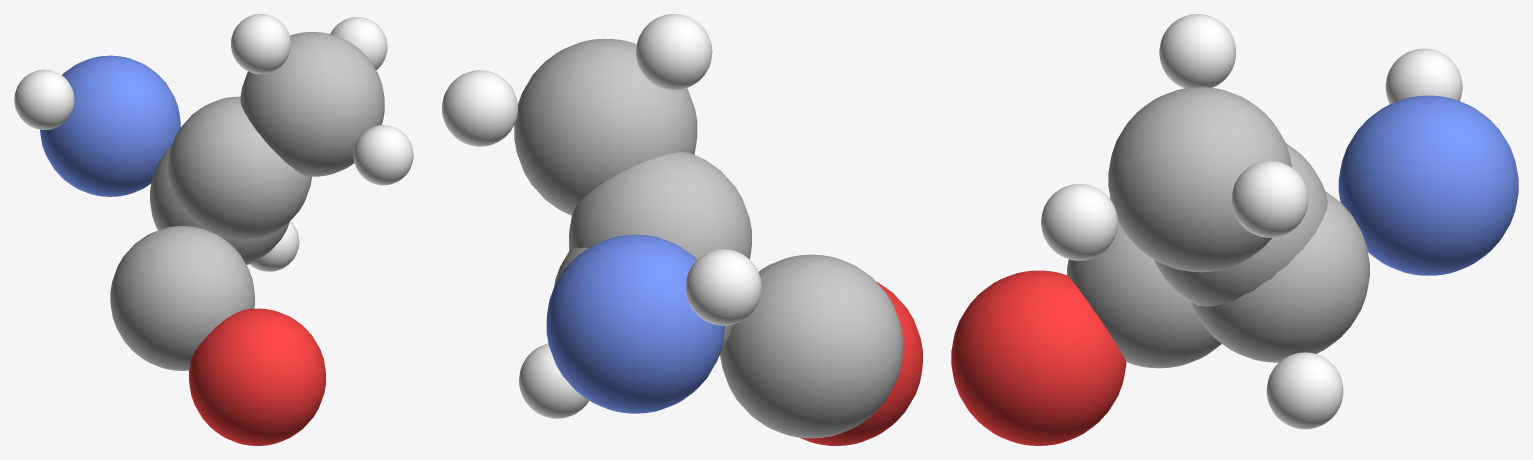
Rendered from Alkaline.glb.
3 renders of one model, left to right at view 1: azimuth 30°, elevation 25°; view 2: azimuth 150°, elevation 25°; view 3: azimuth 270°, elevation 25°, orthographic. The views are drawn at different scales.
Visible parts, largest first — view 1: Carbon_ball (×4), Oxygen_ball (×2), Nitrogen_ball, Hydrogen_ball (×5); view 2: Carbon_ball (×4), Nitrogen_ball, Hydrogen_ball (×4), Oxygen_ball; view 3: Carbon_ball (×5), Nitrogen_ball, Oxygen_ball, Hydrogen_ball (×5).
Boxes of the visible parts, bbox=[...] form: Carbon_ball (×4): bbox=[110, 32, 384, 370]; Oxygen_ball (×2): bbox=[189, 308, 325, 445]; Nitrogen_ball: bbox=[40, 55, 180, 196]; Hydrogen_ball (×5): bbox=[14, 14, 413, 271]; Carbon_ball (×4): bbox=[514, 38, 902, 438]; Nitrogen_ball: bbox=[546, 234, 724, 413]; Hydrogen_ball (×4): bbox=[442, 14, 761, 418]; Oxygen_ball: bbox=[800, 281, 922, 445]; Carbon_ball (×5): bbox=[1067, 87, 1369, 368]; Nitrogen_ball: bbox=[1338, 95, 1518, 275]; Oxygen_ball: bbox=[951, 270, 1126, 445]; Hydrogen_ball (×5): bbox=[1041, 14, 1462, 429].
Size of the model in its own units: 3.76 by 4.23 by 4.72.
